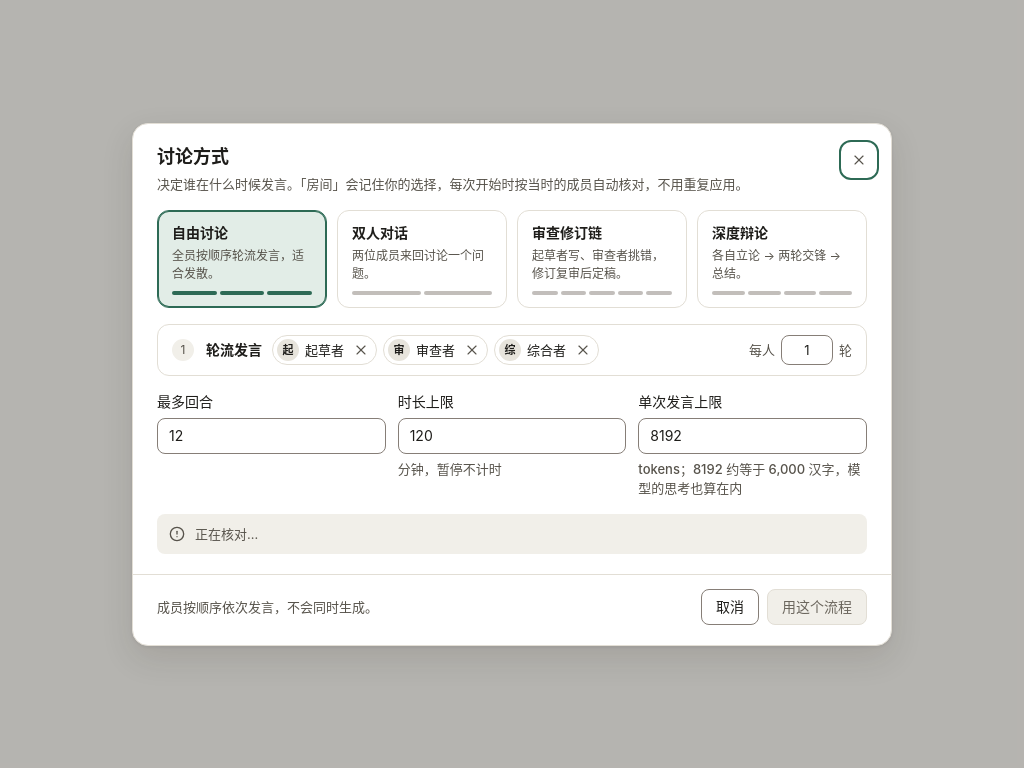
Test: 讨论方式 dialog › says what is wrong locally without asking Main, and shows Main’s refusal in words
Replace the text in the field labelled "最多回合" with "0". click: (271, 436)
box: [157,418,386,454]
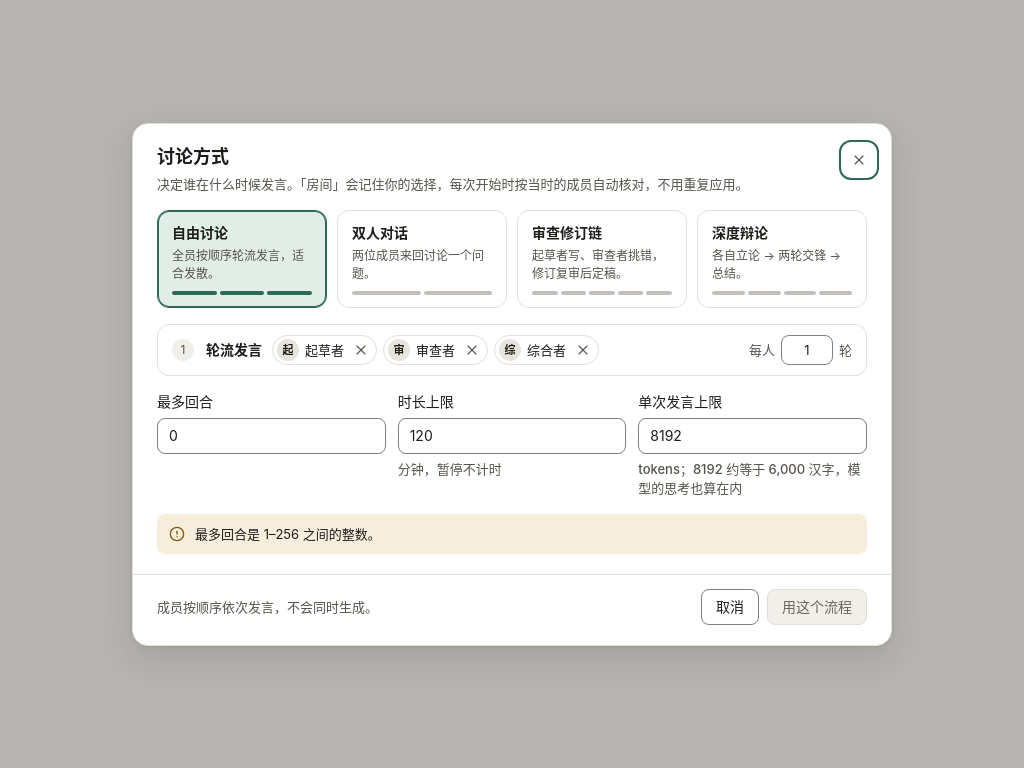
Result: the text "最多回合是 1–256 之间的整数。" is shown at [195,526,381,542]
Replace the text in the field labelled "最多回合" with "12". click: (271, 436)
box: [157,418,386,454]
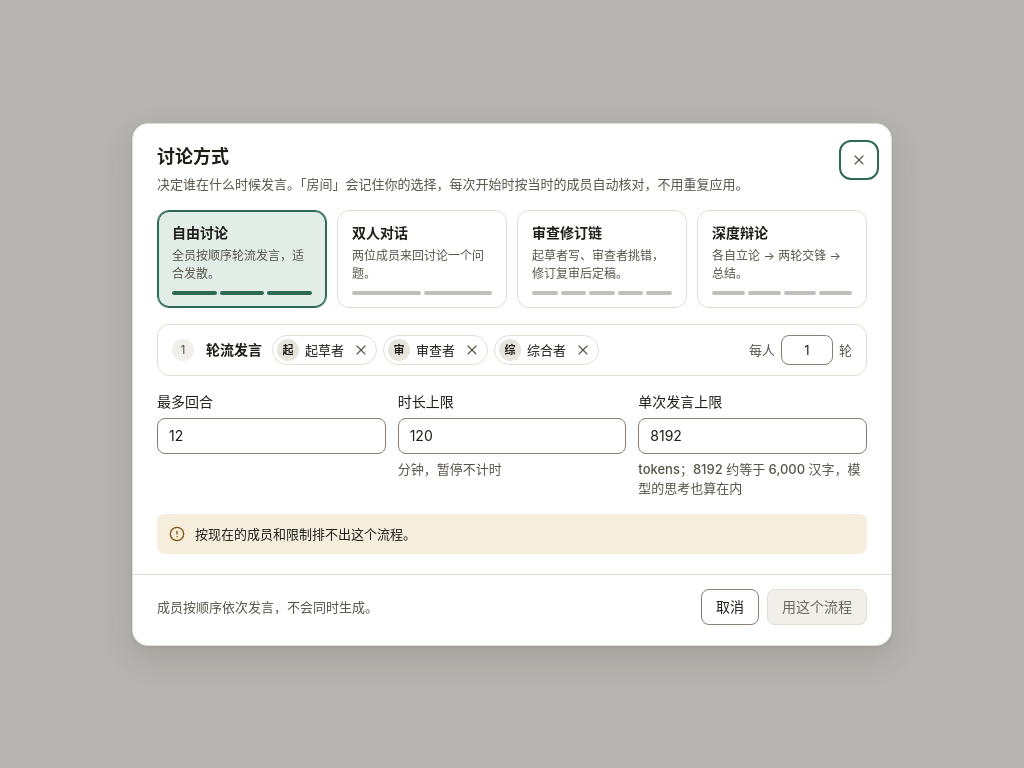
Expected: the button "用这个流程" is disabled, [767,588,867,624]
Result: the text "按现在的成员和限制排不出这个流程。" is shown at [195,526,416,542]
